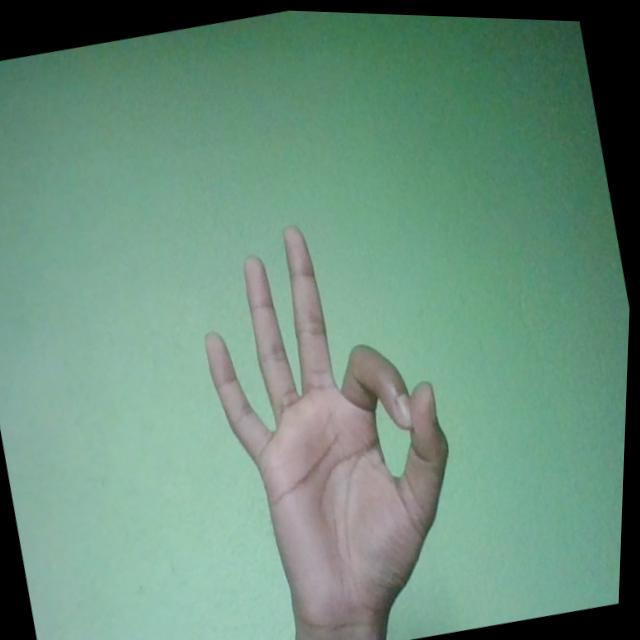Ok: (174, 193, 495, 640)
